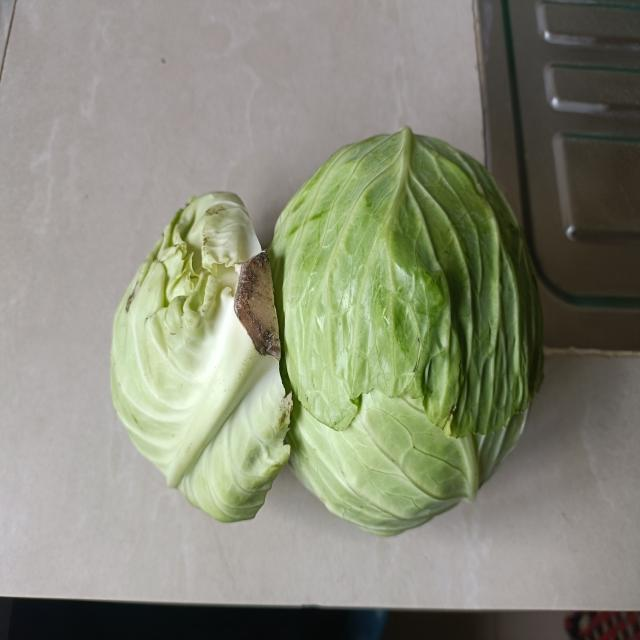cabbage: (266, 124, 543, 539), (110, 187, 291, 527)
